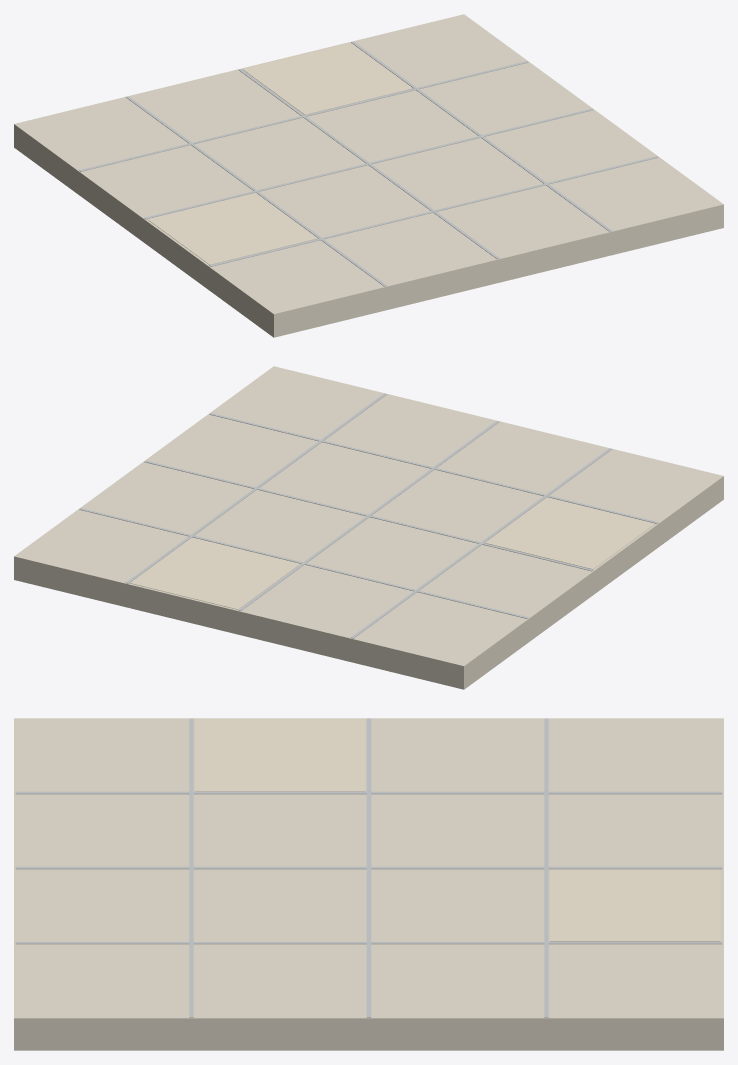
Rendered from Mart_Floor_Tile_4m.glb.
3 renders of one model, top to bottom at view 1: azimuth 30°, elevation 25°; view 2: azimuth 150°, elevation 25°; view 3: azimuth 270°, elevation 25°, orthographic. The views are drawn at different scales.
Visible parts, largest first — view 1: Mart_Floor_Tile_4m; view 2: Mart_Floor_Tile_4m; view 3: Mart_Floor_Tile_4m.
Boxes of the visible parts, x1,y1,x2,y2 form: Mart_Floor_Tile_4m: [14, 14, 723, 337]; Mart_Floor_Tile_4m: [14, 366, 723, 689]; Mart_Floor_Tile_4m: [14, 718, 723, 1050].
Size of the model in its own units: 4 by 0.204 by 4.
Materials: 1 (1 with a texture image).
